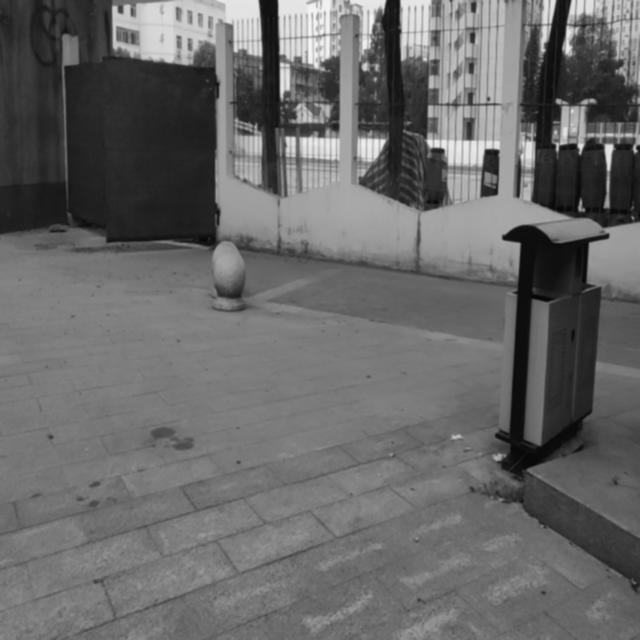ash bin: (495, 217, 609, 476)
spherical_roadblock: (212, 249, 245, 311)
